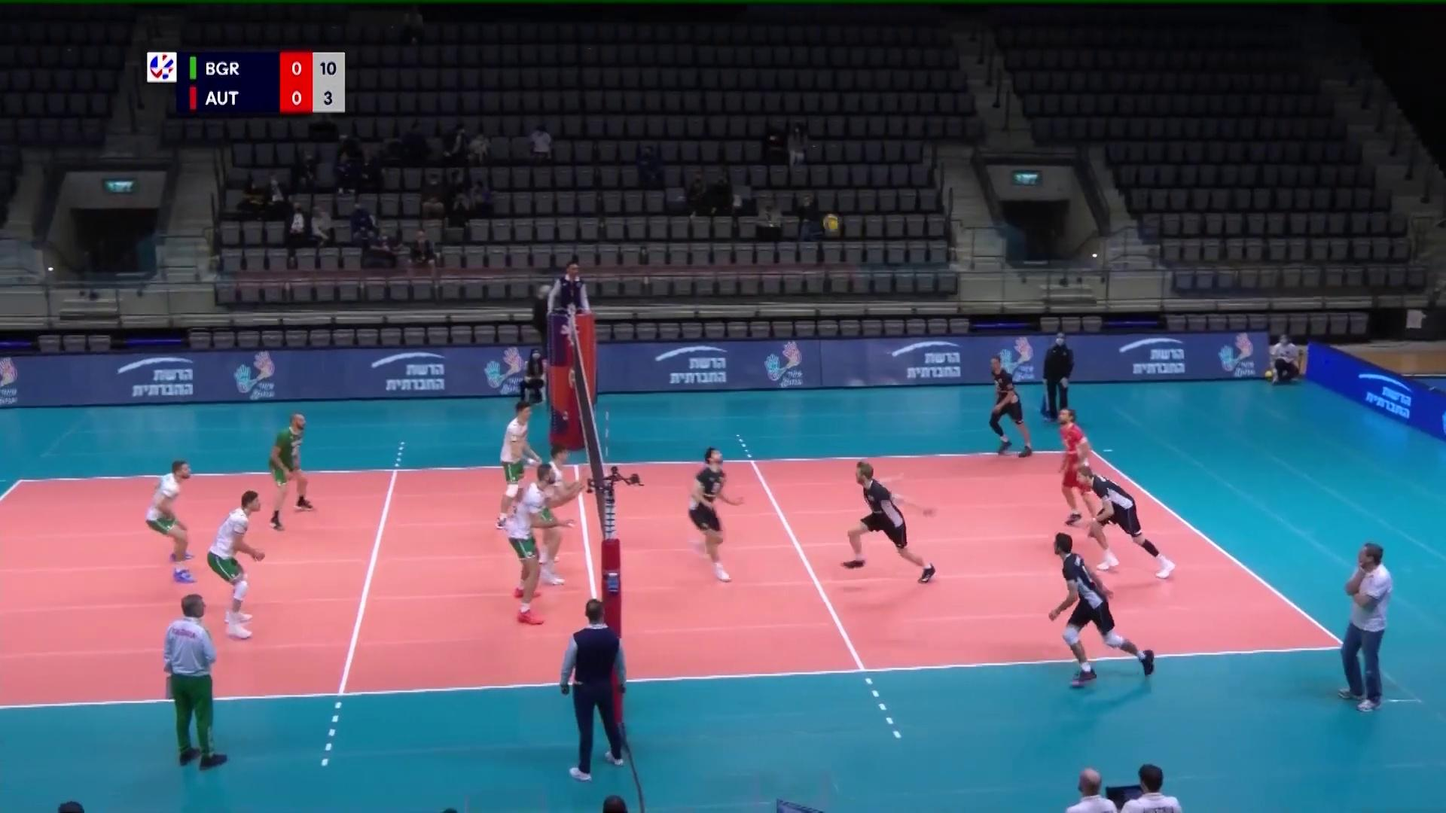ball: (821, 215, 842, 235)
